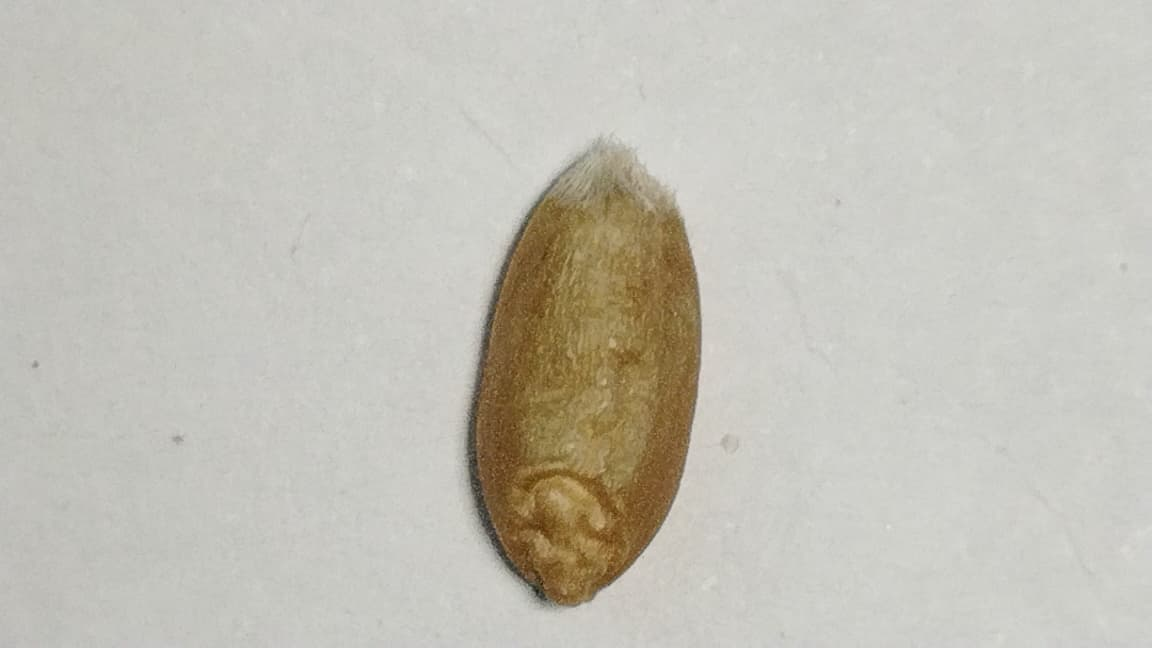healthy: (464, 134, 703, 608)
